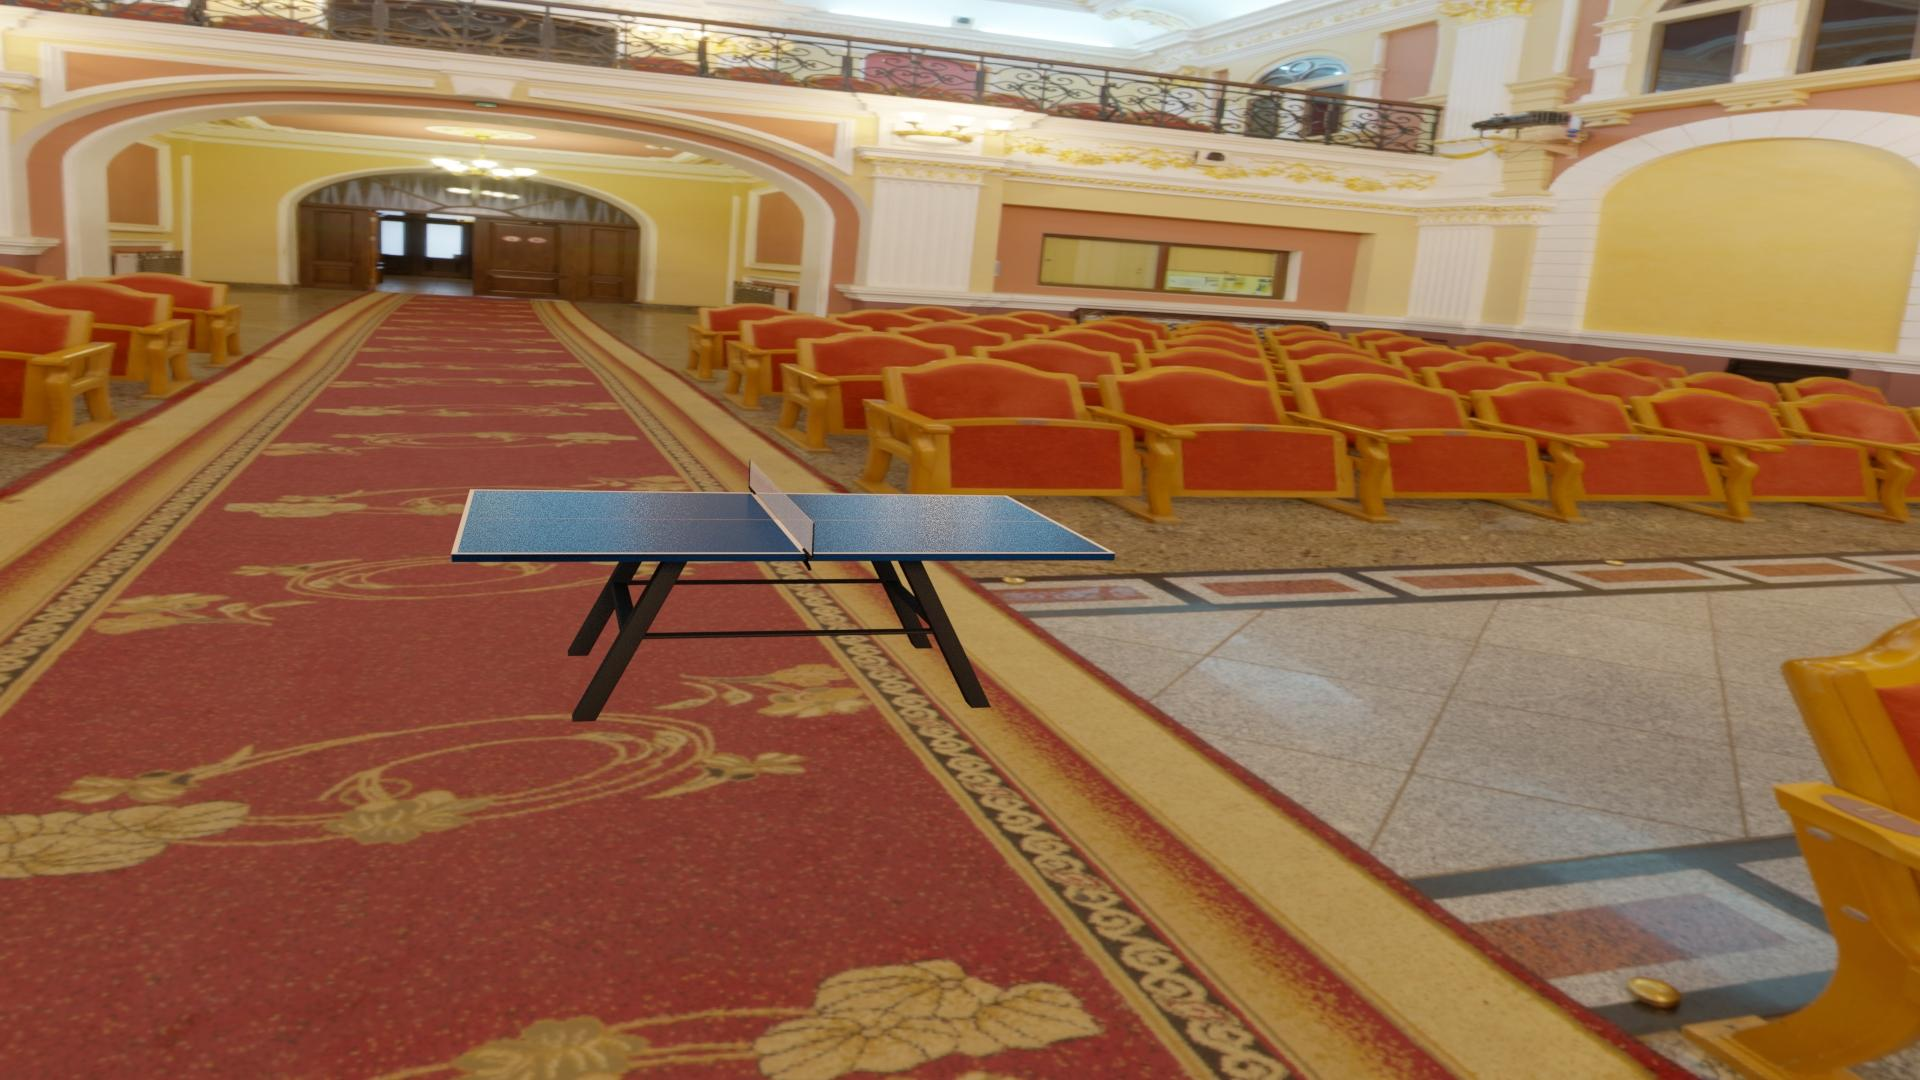table: (458, 491, 1109, 553)
